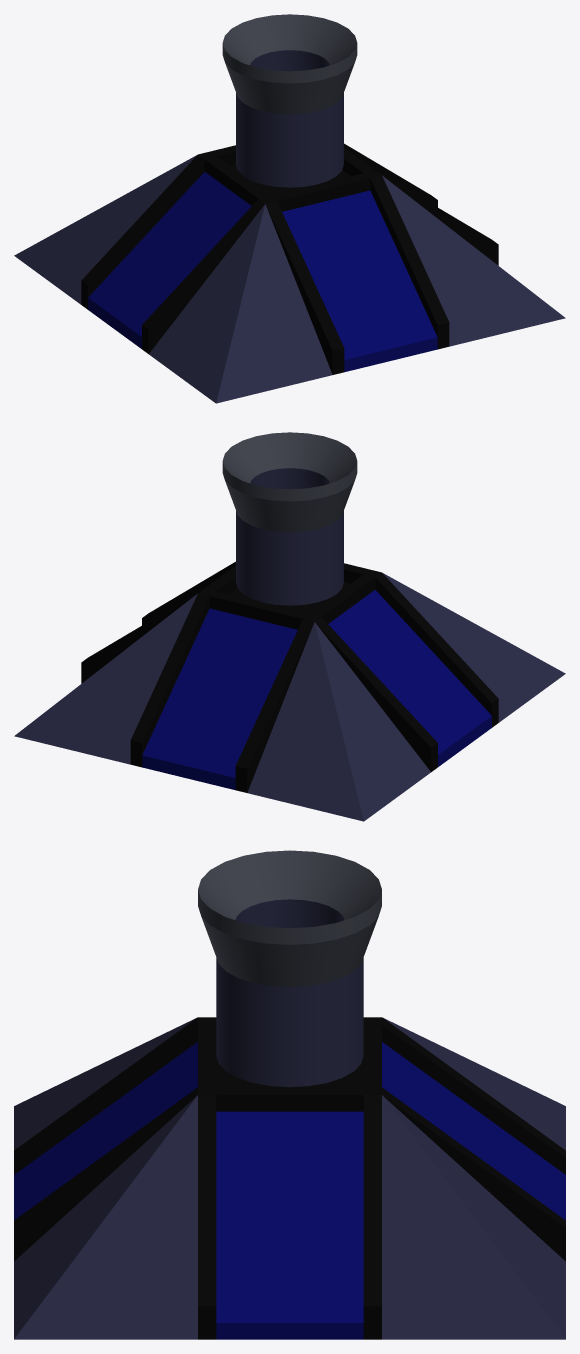
Rendered from TurretBase.glb.
3 renders of one model, top to bottom at view 1: azimuth 30°, elevation 25°; view 2: azimuth 150°, elevation 25°; view 3: azimuth 270°, elevation 25°, orthographic. The views are drawn at different scales.
Parts seen in each view (by area): view 1: mergedBlocks(Clone); view 2: mergedBlocks(Clone); view 3: mergedBlocks(Clone).
Boxes of the visible parts, x1,y1,x2,y2 form: mergedBlocks(Clone): [14, 14, 565, 403]; mergedBlocks(Clone): [14, 432, 565, 821]; mergedBlocks(Clone): [14, 850, 565, 1339].
Size of the model in its own units: 3 by 2 by 3.
